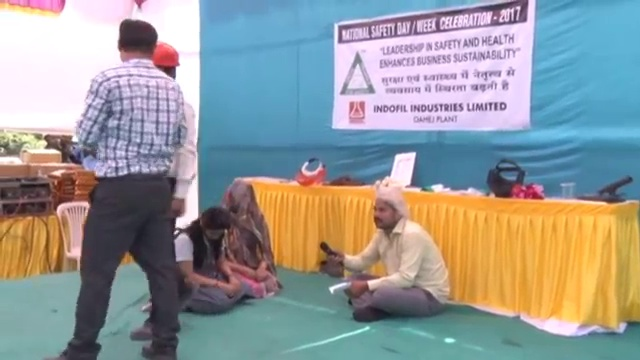helmet: (152, 44, 180, 69)
helmet_off: (106, 19, 159, 73), (365, 187, 410, 236), (224, 184, 261, 231), (193, 205, 231, 249), (43, 133, 72, 153)
helmet_on: (153, 42, 181, 83)
person: (59, 19, 185, 356), (324, 183, 452, 326), (151, 45, 205, 221), (172, 198, 251, 316), (218, 181, 279, 300)
